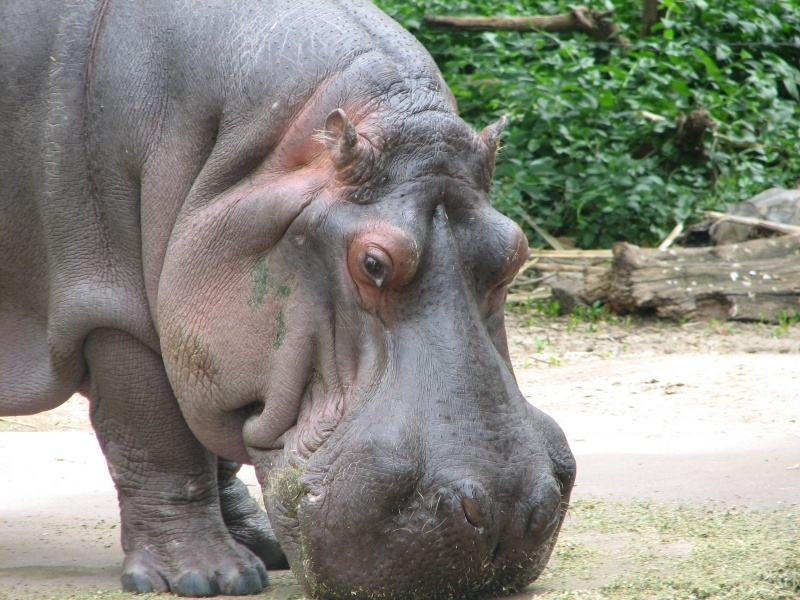hipopotamo: (0, 1, 576, 598)
